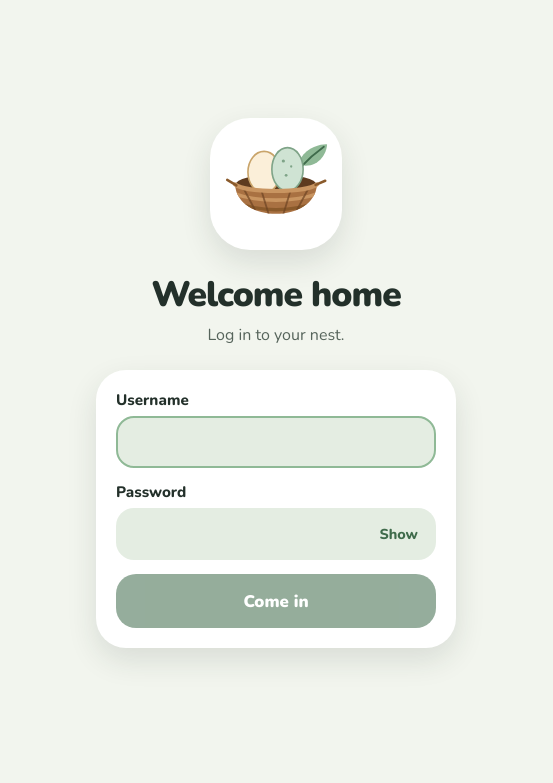
Test case: logging in › first login on a phone asks for its name, then opens Home
The width and height of the screenshot is (553, 783).
Check: the heading "Welcome home" is shown, box [151,270,401,318]
In the field labelled "Username": (276, 442) [116,416,436,468], type " Radek "
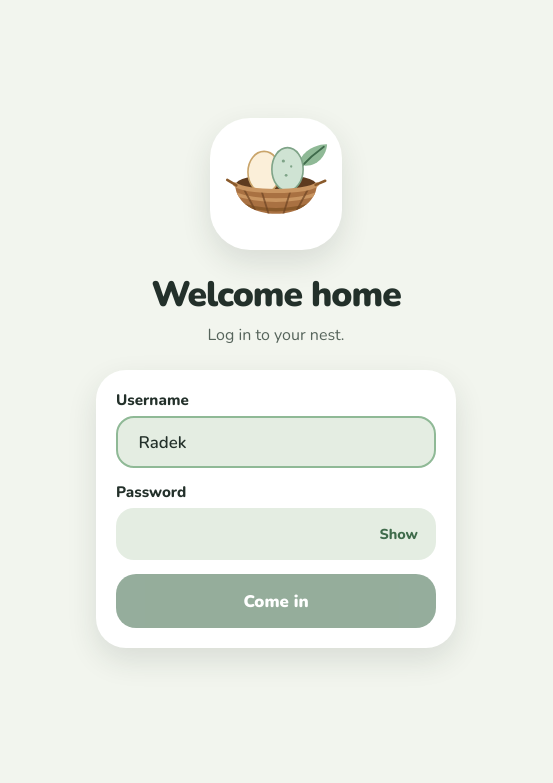
In the password field labelled "Password": (276, 534) [116,508,436,560], type "correct horse"
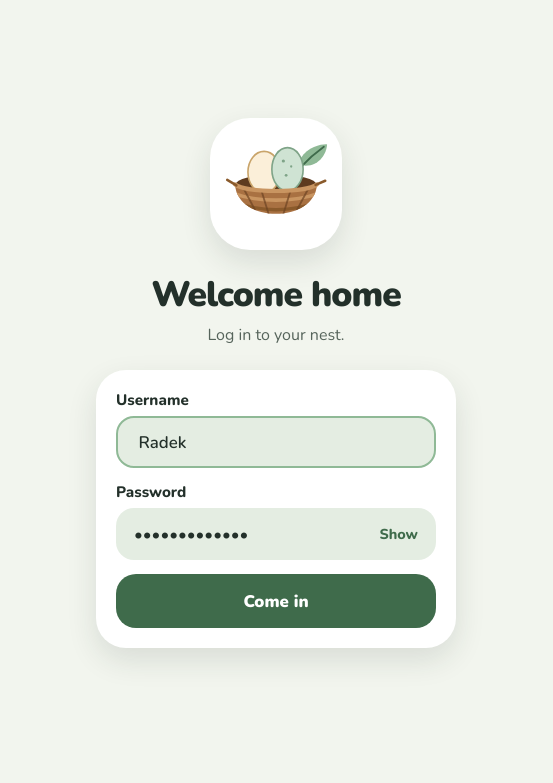
Click the button "Come in": (276, 601) [116,574,436,628]
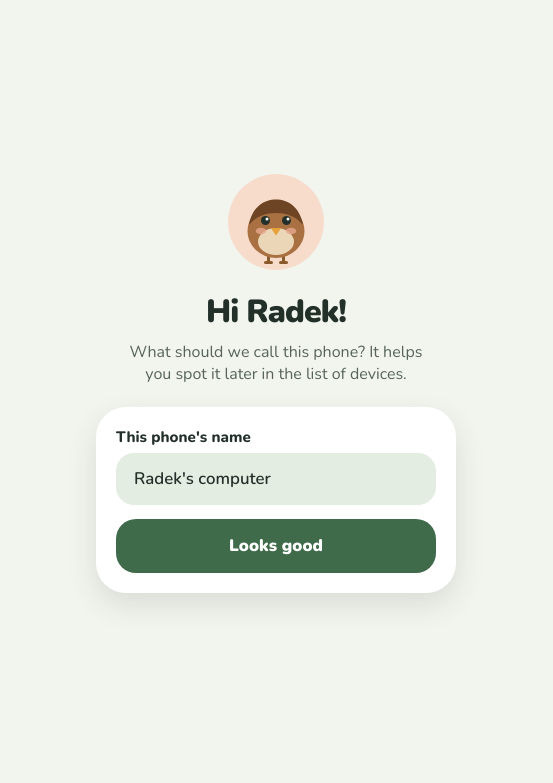
Check: the heading "Hi Radek!" is shown, box [206,290,346,332]
Replace the text in the field labelled "This phone's name" with "Kitchen phone": (276, 478) [116,452,436,504]
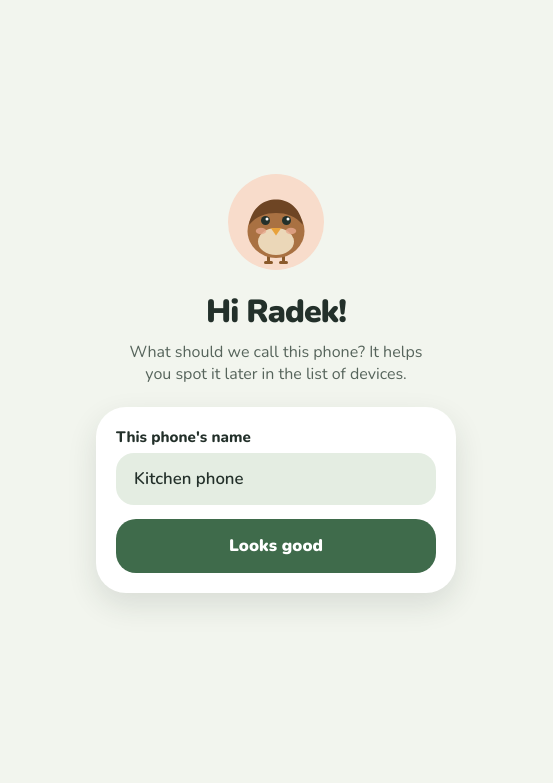
Click the button "Looks good": (276, 546) [116,518,436,572]
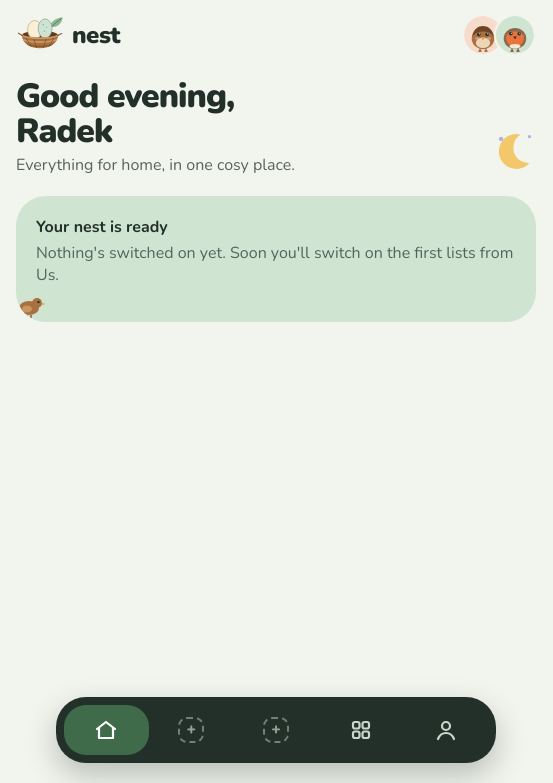
Check: the heading "Good evening,Radek" is shown, box [16,73,234,154]
